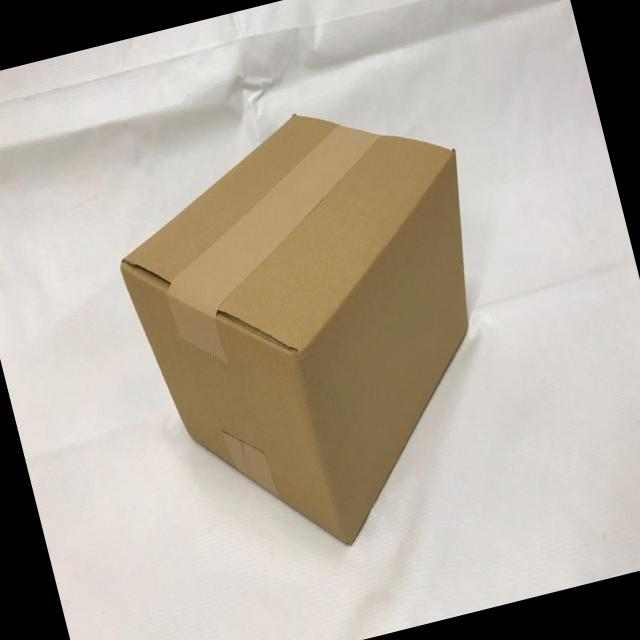box: (121, 112, 469, 549)
